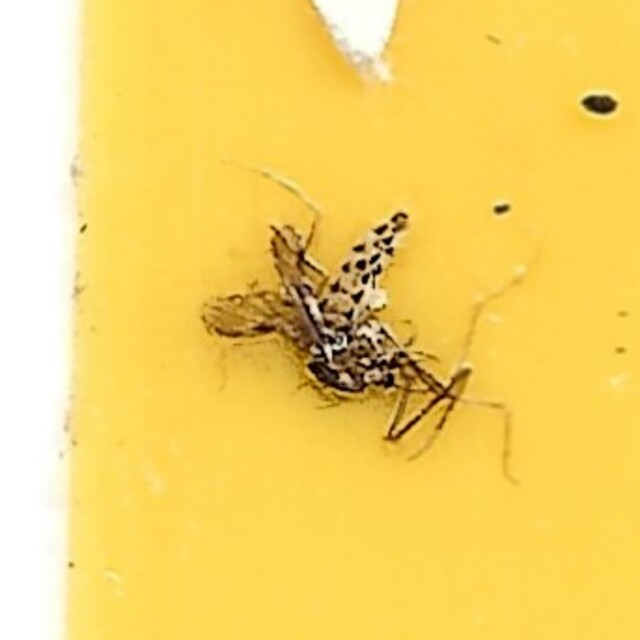Nematocera: (187, 198, 453, 442)
